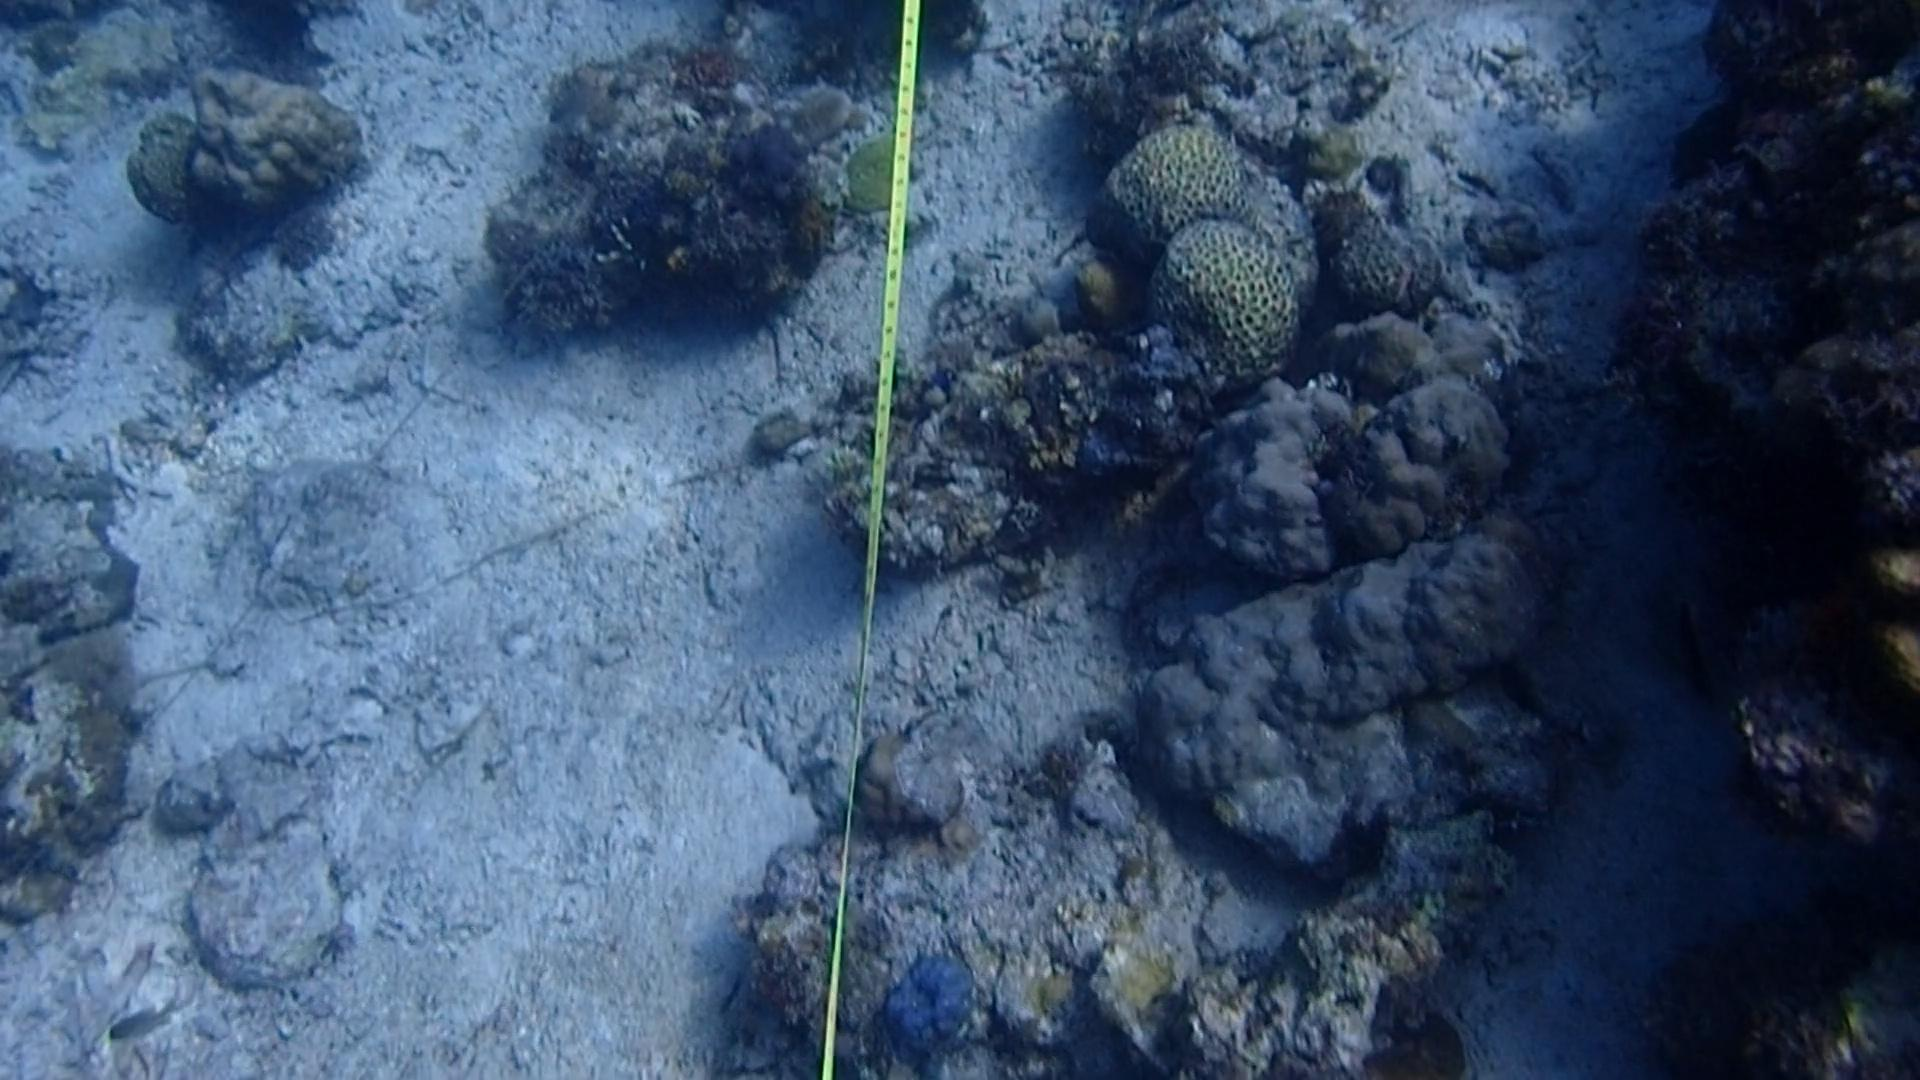Light Fish: (100, 988, 196, 1056)
